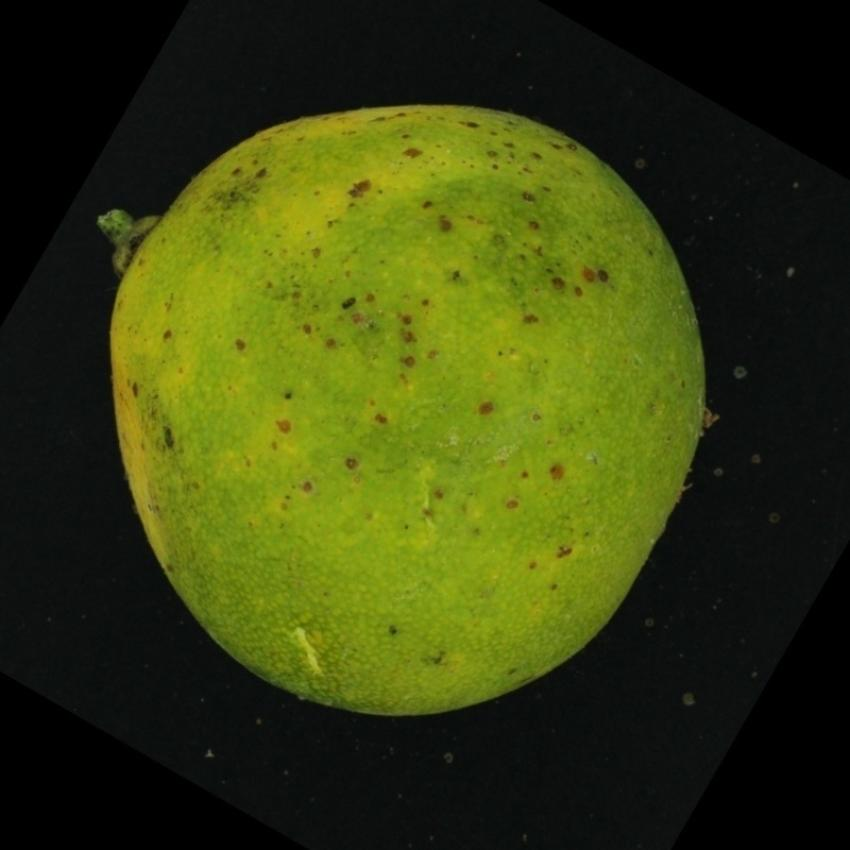Mal estado: (83, 75, 755, 736)
